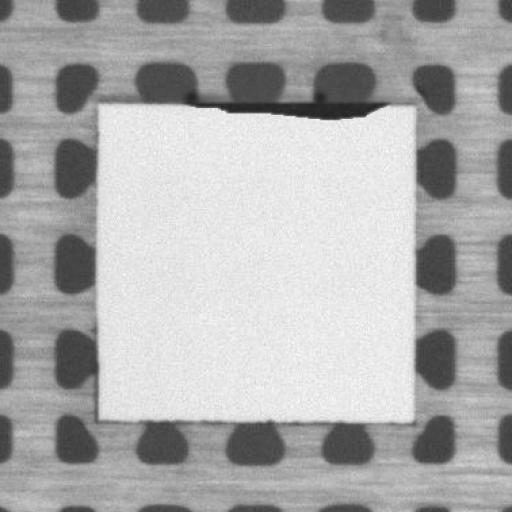DIE_BROKEN: (187, 93, 393, 120)
